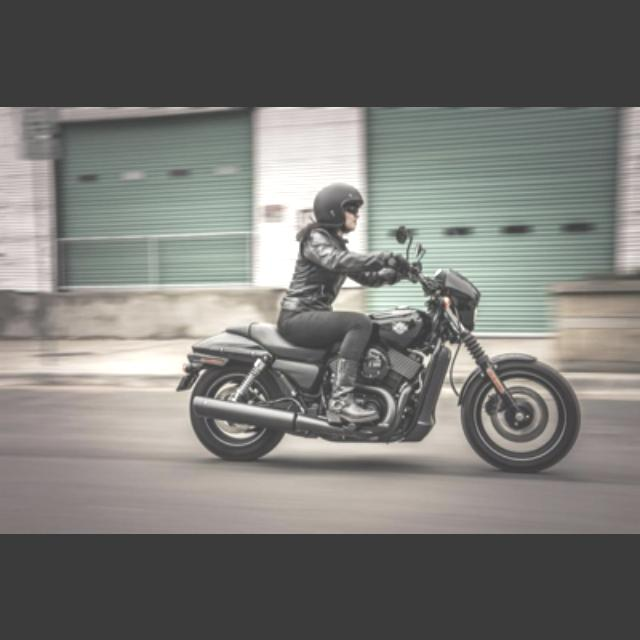With Helmet: (307, 170, 368, 238)
